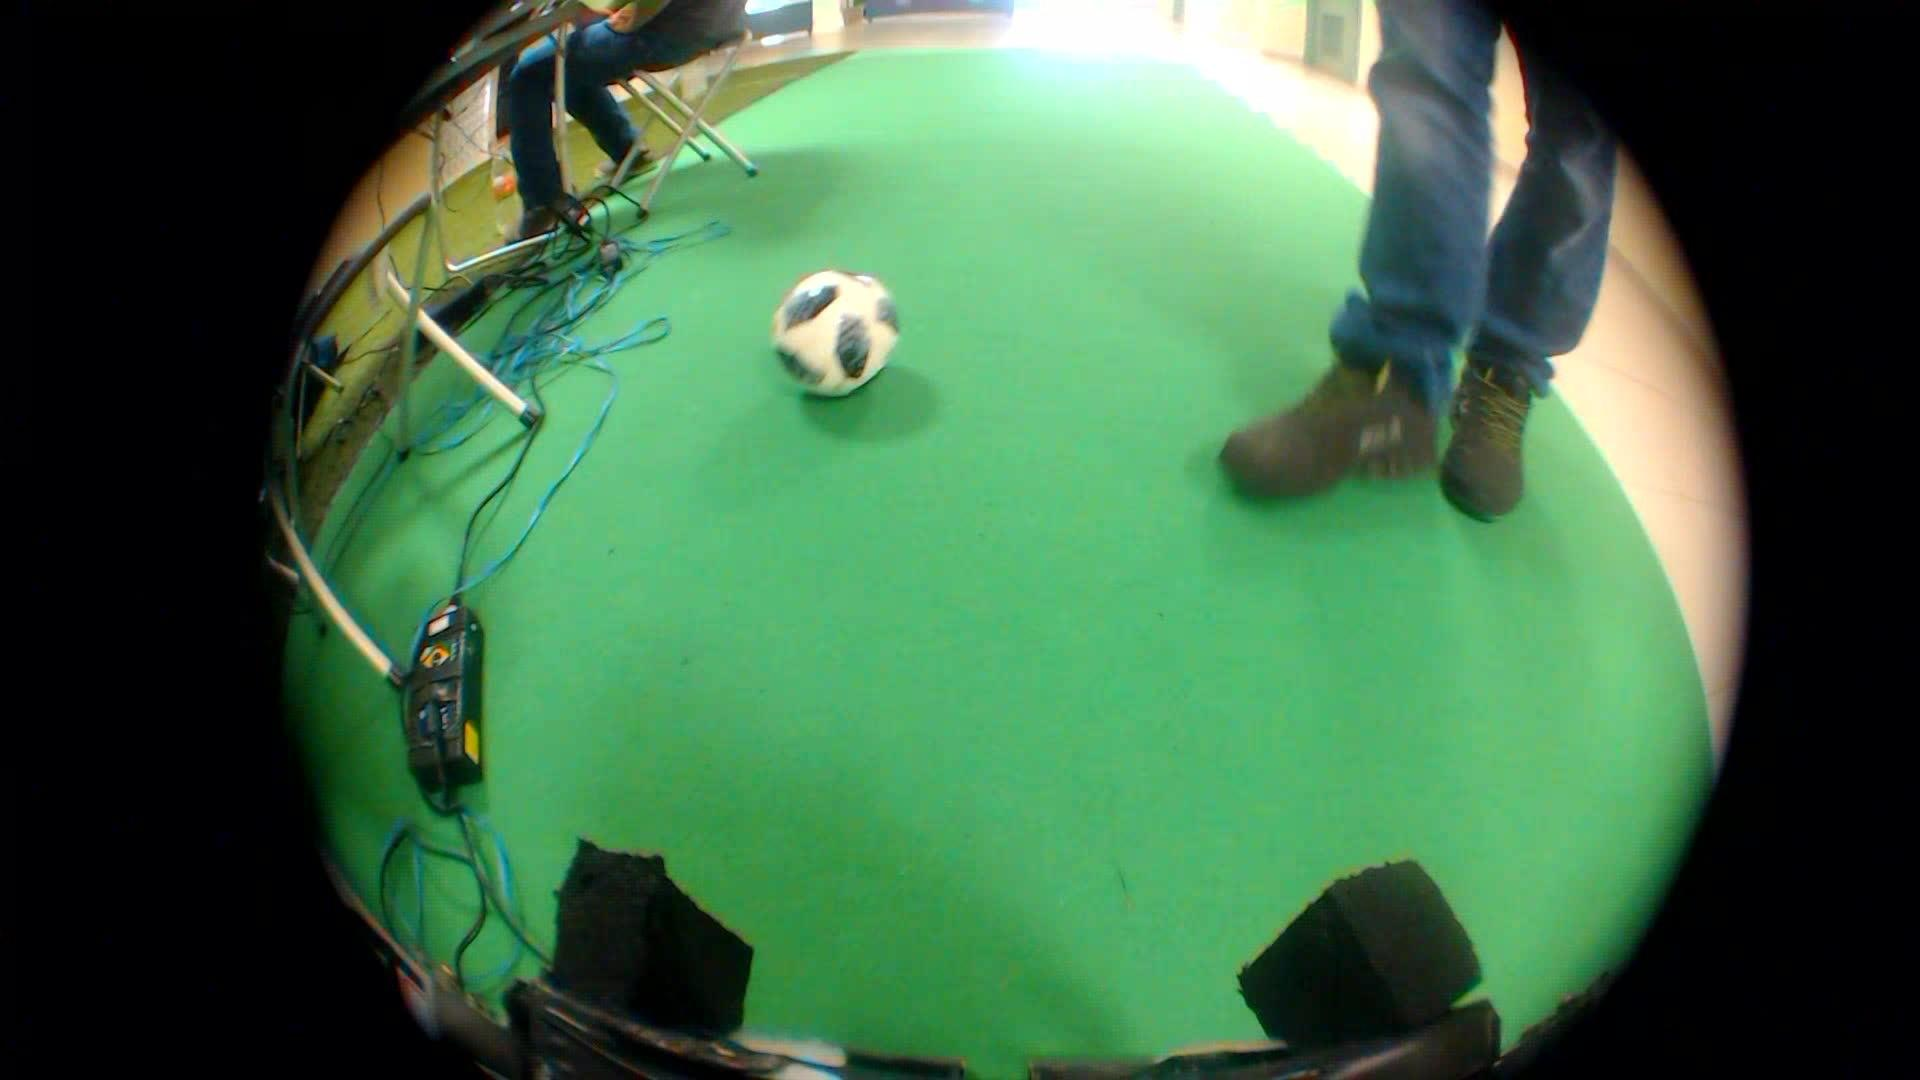ball: (756, 253, 913, 410)
